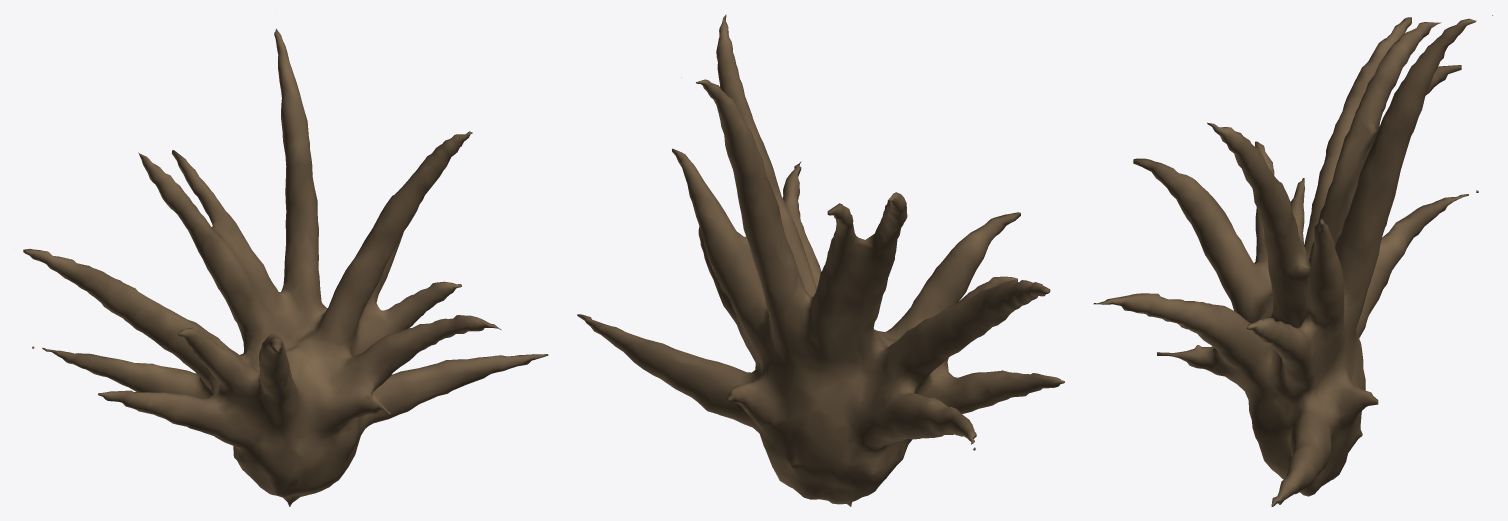
Rendered from spiderwood-desktop.glb.
3 renders of one model, left to right at view 1: azimuth 30°, elevation 25°; view 2: azimuth 150°, elevation 25°; view 3: azimuth 270°, elevation 25°, orthographic. The views are drawn at different scales.
Parts seen in each view (by area): view 1: spiderwood; view 2: spiderwood; view 3: spiderwood.
Part boxes in pixels (<box>): spiderwood: <box>23,29,548,506</box>; spiderwood: <box>577,14,1064,506</box>; spiderwood: <box>1093,15,1492,506</box>.
Size of the model in its own units: 1.4 by 1.18 by 0.8485.
